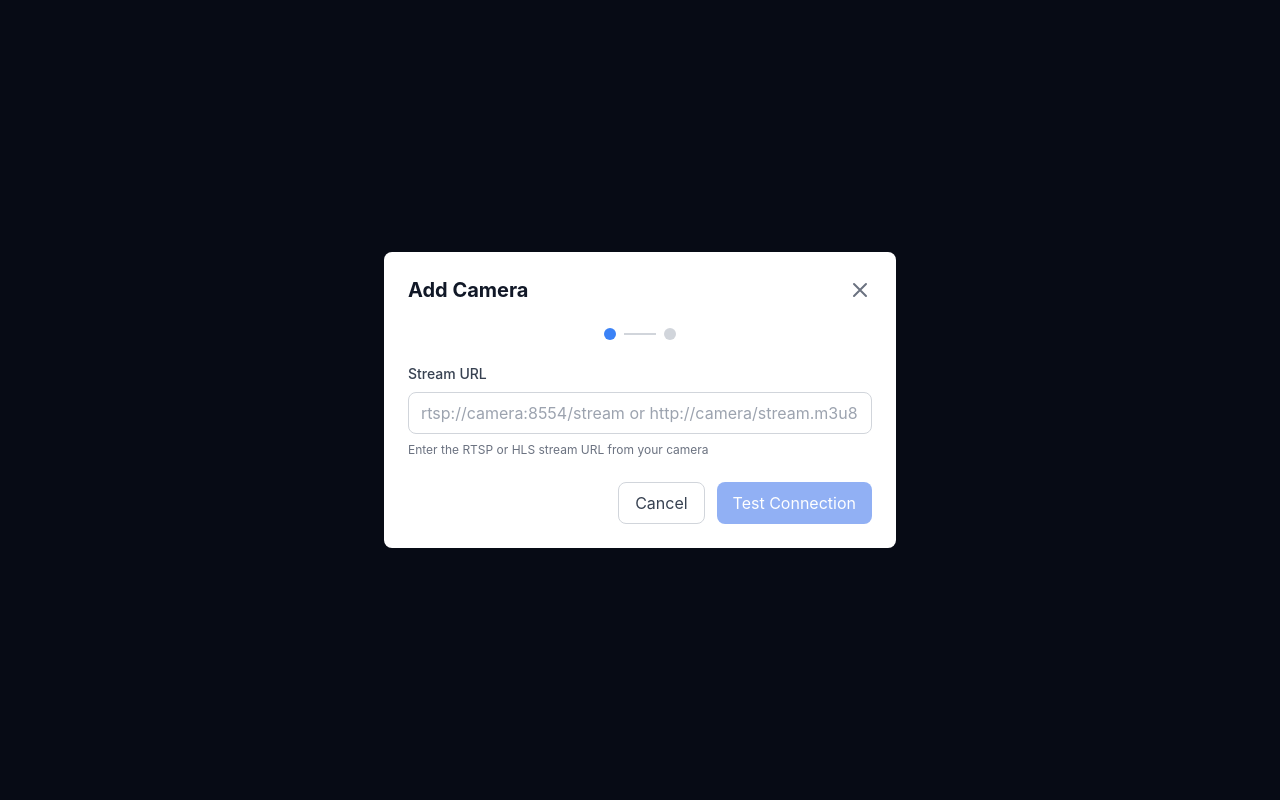
Test: AddCameraModal › should enable test button when URL is entered
Type "rtsp://test:8554/stream" into the field with placeholder "rtsp://camera:8554/stream or http://camera/stream.m3u8" at (640, 413), box [408,392,872,434]
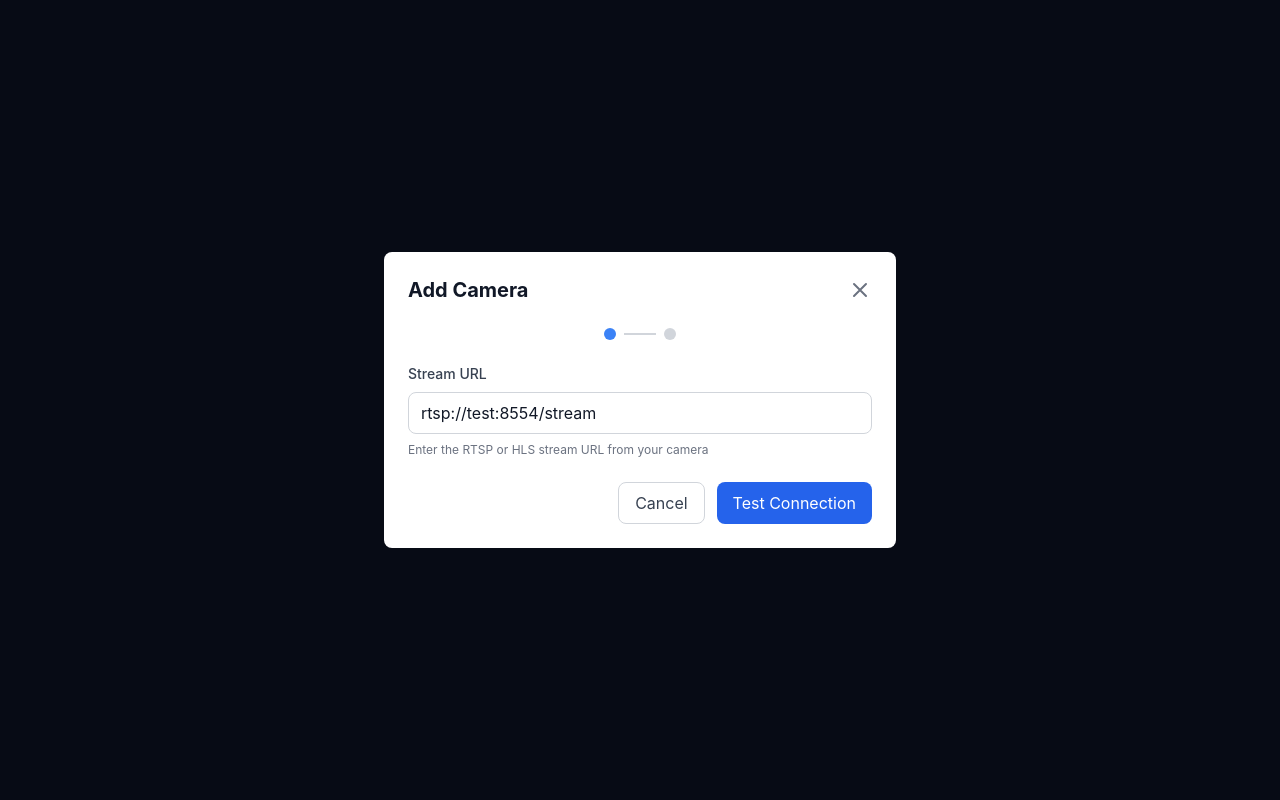
Expected: the button "Test Connection" is enabled, [717,482,872,524]
